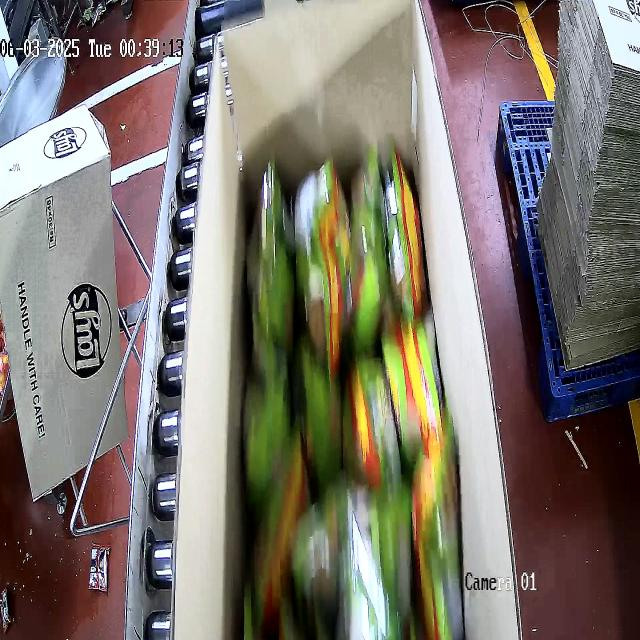YOGURT_HERB: (243, 138, 464, 638)
